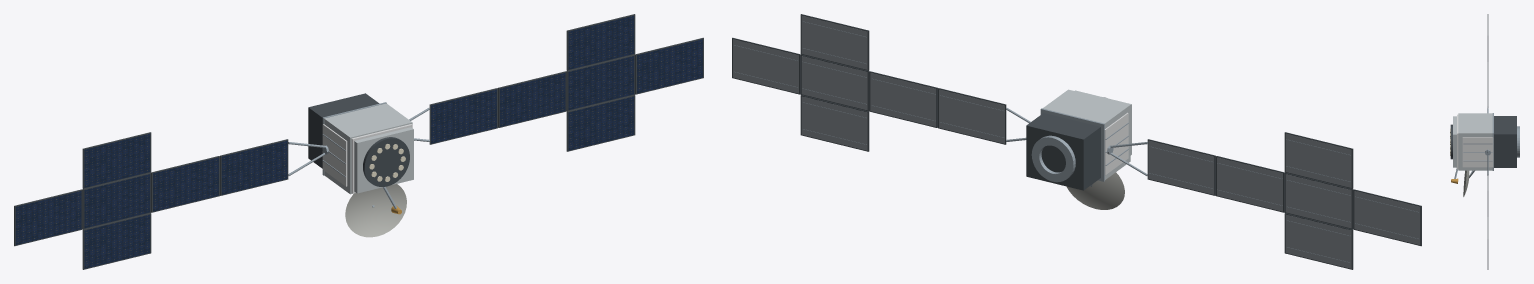
File: ssl-1300-crosswing-single-shell.glb
The picture shows the model from 3 angles, left to right: view 1: azimuth 30°, elevation 25°; view 2: azimuth 150°, elevation 25°; view 3: azimuth 270°, elevation 25°; orthographic projection. The views are drawn at different scales.
Parts seen in each view (by area): view 1: Solar cell panel (×12), Solar panel frame (×6), Communications reflector, Payload module, Planar antenna aperture, Service module, Antenna equipment shelf, Radiator face, Earth-facing deck; view 2: Rear array substrate (×12), Service module, Solar panel frame (×6), Payload module, Communications reflector, Launch adapter ring, Radiator face, Module interface; view 3: Service module, Payload module, Radiator face, Solar panel frame (×3), Antenna equipment shelf, Communications reflector, Radiator seam (×2), Earth-facing deck, Planar antenna aperture, Launch adapter ring, Module interface.
Boxes of the visible parts, x1,y1,x2,y2 form: Solar cell panel (×12): (15, 15, 702, 268); Solar panel frame (×6): (82, 14, 635, 269); Communications reflector: (345, 184, 406, 237); Payload module: (324, 103, 412, 194); Planar antenna aperture: (363, 137, 409, 186); Service module: (308, 93, 379, 168); Antenna equipment shelf: (354, 127, 413, 193); Radiator face: (322, 124, 347, 186); Earth-facing deck: (351, 124, 412, 193); Rear array substrate (×12): (733, 15, 1420, 268); Service module: (1026, 113, 1100, 190); Solar panel frame (×6): (800, 14, 1353, 269); Payload module: (1043, 89, 1130, 179); Communications reflector: (1066, 172, 1124, 209); Launch adapter ring: (1031, 135, 1075, 182); Radiator face: (1104, 112, 1128, 175); Module interface: (1040, 108, 1104, 181); Service module: (1494, 116, 1516, 167); Payload module: (1458, 113, 1492, 170); Radiator face: (1462, 137, 1493, 167); Solar panel frame (×3): (1487, 14, 1488, 264); Antenna equipment shelf: (1453, 116, 1456, 167); Communications reflector: (1463, 170, 1469, 196); Radiator seam (×2): (1463, 143, 1492, 161); Earth-facing deck: (1457, 114, 1458, 169); Planar antenna aperture: (1450, 124, 1452, 159); Launch adapter ring: (1517, 126, 1519, 157); Module interface: (1492, 113, 1493, 170).
Bounding box in the file's own units: 30.97 × 6.06 × 4.15.
Materials: 9 (1 with a texture image).
